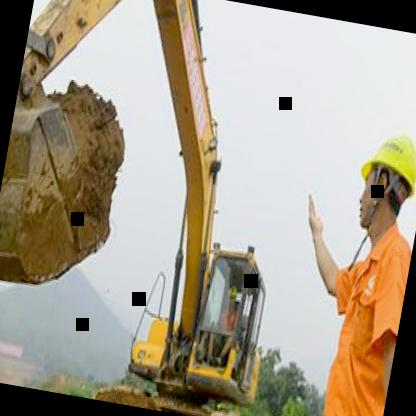helmet: (347, 111, 416, 248)
